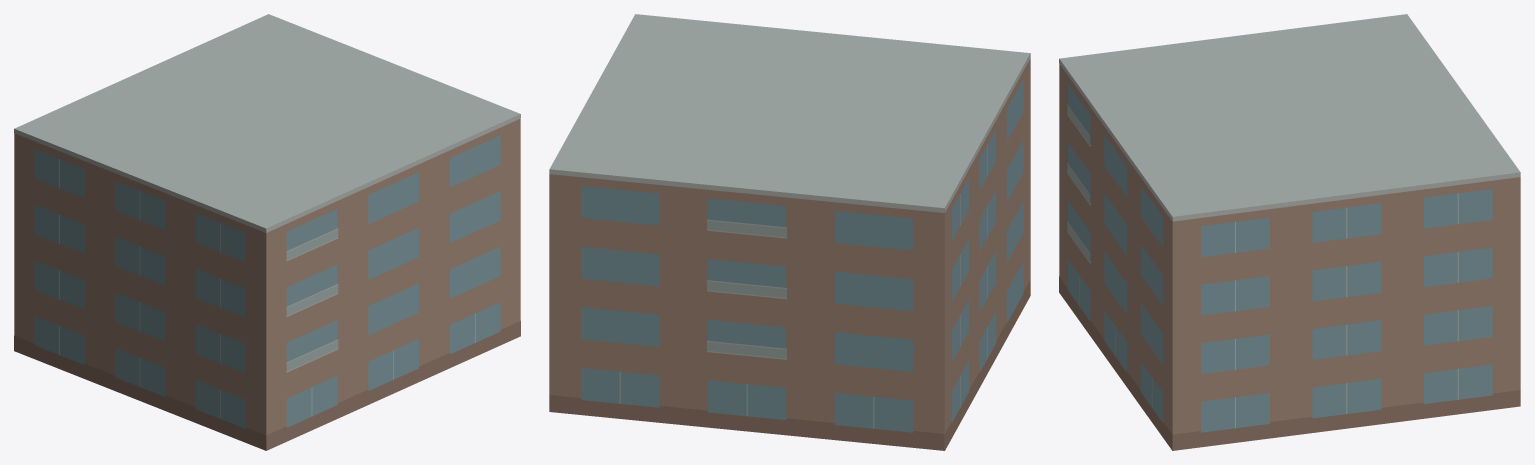
File: residential-4a362780-c8c1-4578-a633-ef92333c1fd4.glb
3 renders of one model, left to right at view 1: azimuth 30°, elevation 25°; view 2: azimuth 150°, elevation 25°; view 3: azimuth 270°, elevation 25°, orthographic. The views are drawn at different scales.
Visible parts, largest first — view 1: residential-4a362780-c8c1-4578-a633-ef92333c1fd4.tmp; view 2: residential-4a362780-c8c1-4578-a633-ef92333c1fd4.tmp; view 3: residential-4a362780-c8c1-4578-a633-ef92333c1fd4.tmp.
Boxes of the visible parts, x1,y1,x2,y2 form: residential-4a362780-c8c1-4578-a633-ef92333c1fd4.tmp: (14, 14, 520, 450); residential-4a362780-c8c1-4578-a633-ef92333c1fd4.tmp: (549, 14, 1030, 450); residential-4a362780-c8c1-4578-a633-ef92333c1fd4.tmp: (1059, 14, 1520, 450).
Size of the model in its own units: 22.7 by 12.2 by 21.82.
